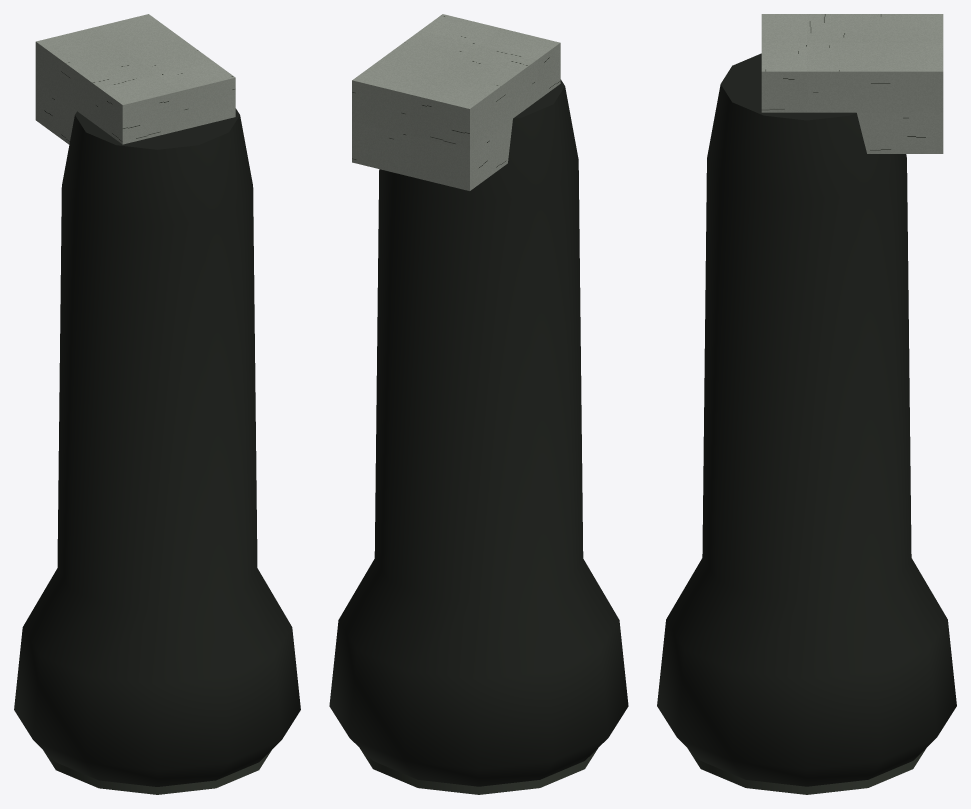
File: SM_FieldKit_Handset.fbx
3 renders of one model, left to right at view 1: azimuth 30°, elevation 25°; view 2: azimuth 150°, elevation 25°; view 3: azimuth 270°, elevation 25°, orthographic. The views are drawn at different scales.
Visible parts, largest first — view 1: SM_FieldKit_Handset; view 2: SM_FieldKit_Handset; view 3: SM_FieldKit_Handset.
Boxes of the visible parts, <box> form: SM_FieldKit_Handset: <box>14,14,300,794</box>; SM_FieldKit_Handset: <box>329,14,628,794</box>; SM_FieldKit_Handset: <box>657,14,956,794</box>.
Bounding box in the file's own units: 0.066 × 0.066 × 0.172.
